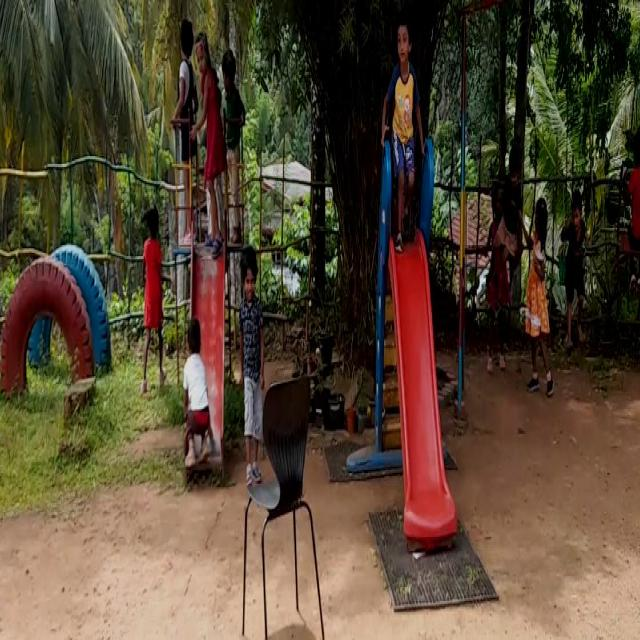child: (382, 0, 424, 254), (130, 188, 169, 379), (234, 244, 260, 488), (194, 19, 220, 250), (179, 313, 212, 480), (169, 22, 199, 204), (526, 190, 552, 378), (220, 41, 244, 237), (561, 178, 589, 346), (621, 129, 640, 301)
